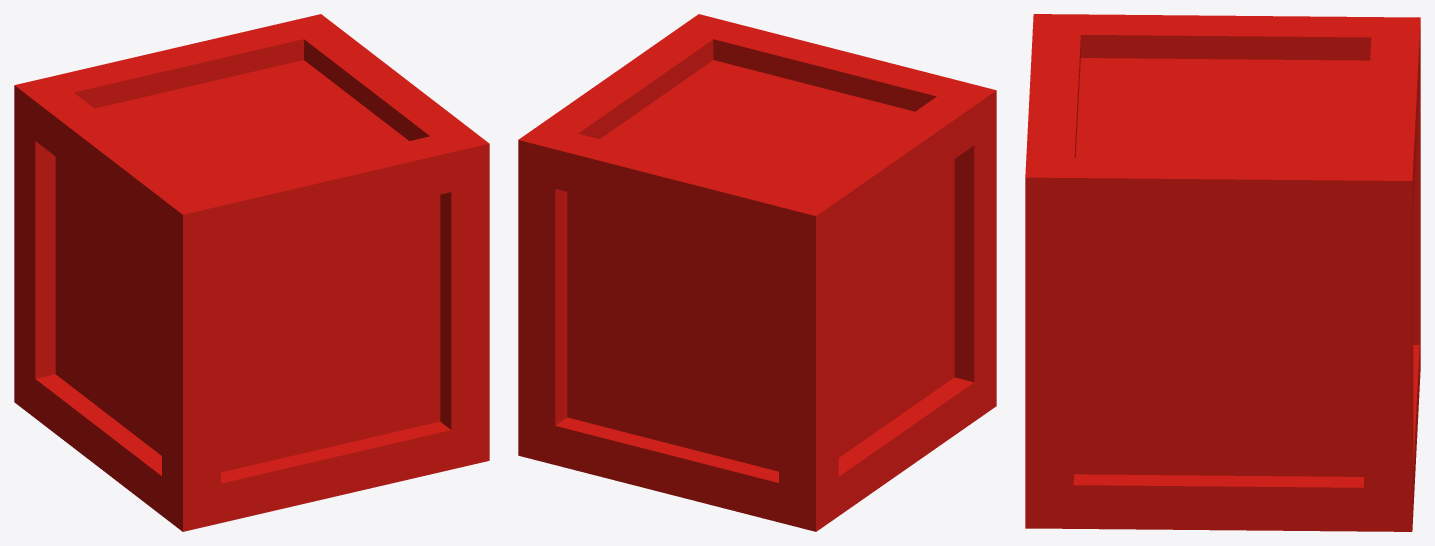
The picture shows the model from 3 angles, left to right: view 1: azimuth 30°, elevation 25°; view 2: azimuth 150°, elevation 25°; view 3: azimuth 270°, elevation 25°; orthographic projection. The views are drawn at different scales.
Visible parts, largest first — view 1: Cube.018; view 2: Cube.018; view 3: Cube.018.
Boxes of the visible parts, x1,y1,x2,y2 form: Cube.018: (14,14,489,531); Cube.018: (518,14,996,531); Cube.018: (1025,14,1420,531).
Size of the model in its own units: 134 by 131 by 134.
